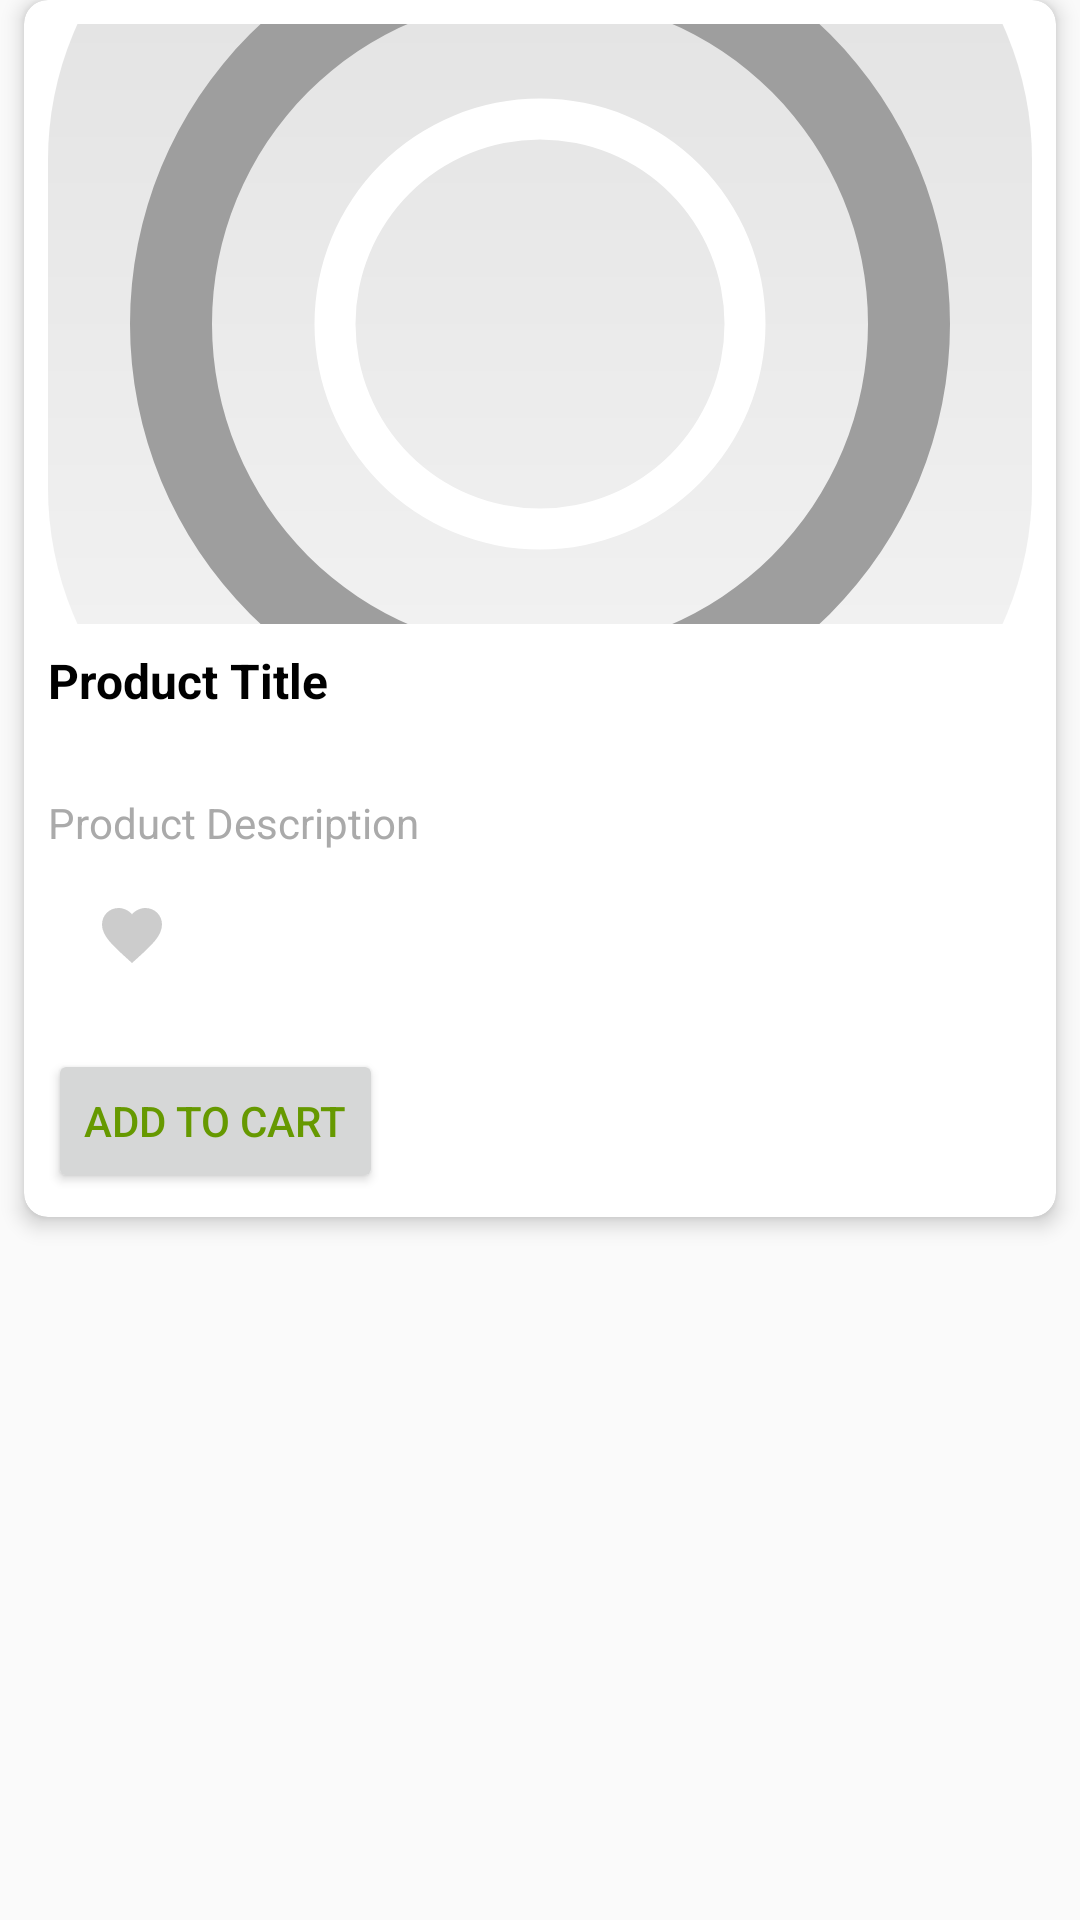

Screen size 1080w x 1920h. Icon name, then its box in pixels as bbox=(x1, y1, x2, y2):
Like Button: bbox=(102, 908, 162, 963)
